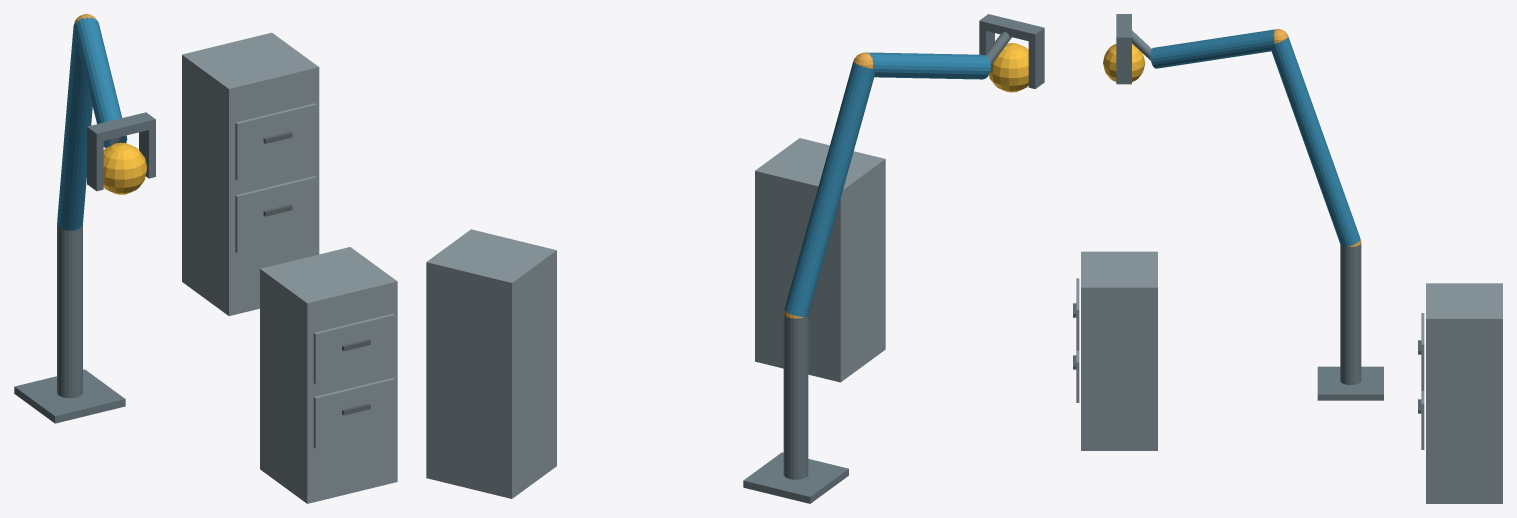
The picture shows the model from 3 angles, left to right: view 1: azimuth 30°, elevation 25°; view 2: azimuth 150°, elevation 25°; view 3: azimuth 270°, elevation 25°; orthographic projection. The views are drawn at different scales.
Parts seen in each view (by area): view 1: cabinet_2 body, cabinet_1 body, cabinet_2 drawer front.001, cabinet_2 drawer front, fixed post, moving link 1, cabinet_1 drawer front, cabinet_1 drawer front.001, pedestal, moving link 2, ball ball_1, gripper bridge (+2 smaller); view 2: cabinet_2 body, cabinet_1 body, moving link 1, fixed post, moving link 2, pedestal, ball ball_1, gripper bridge, gripper finger -1; view 3: cabinet_2 body, cabinet_1 body, moving link 1, fixed post, moving link 2, pedestal, ball ball_1, gripper finger 1, gripper bridge.
Boxes of the visible parts, x1,y1,x2,y2 form: cabinet_2 body: (182, 32, 319, 315); cabinet_1 body: (260, 247, 397, 503); cabinet_2 drawer front.001: (235, 103, 316, 180); cabinet_2 drawer front: (235, 176, 316, 253); fixed post: (57, 222, 82, 398); moving link 1: (57, 25, 92, 230); cabinet_1 drawer front: (313, 378, 394, 448); cabinet_1 drawer front.001: (313, 313, 394, 384); pedestal: (14, 369, 125, 423); moving link 2: (73, 17, 127, 147); ball ball_1: (103, 142, 147, 194); gripper bridge: (87, 112, 155, 142); cabinet_2 body: (426, 229, 556, 498); cabinet_1 body: (755, 138, 885, 382); moving link 1: (784, 62, 874, 317); fixed post: (783, 313, 808, 479); moving link 2: (866, 52, 990, 79); pedestal: (743, 452, 848, 503); ball ball_1: (989, 43, 1028, 92); gripper bridge: (979, 14, 1044, 42); gripper finger -1: (1028, 36, 1044, 88); cabinet_2 body: (1426, 283, 1502, 503); cabinet_1 body: (1081, 251, 1157, 450); moving link 1: (1271, 37, 1360, 246); fixed post: (1340, 243, 1361, 384); moving link 2: (1150, 29, 1275, 68); pedestal: (1317, 366, 1383, 400); ball ball_1: (1103, 44, 1145, 81); gripper finger 1: (1116, 44, 1131, 84); gripper bridge: (1116, 14, 1131, 44).
Size of the model in its own units: 1.46 by 1.44 by 1.62.
